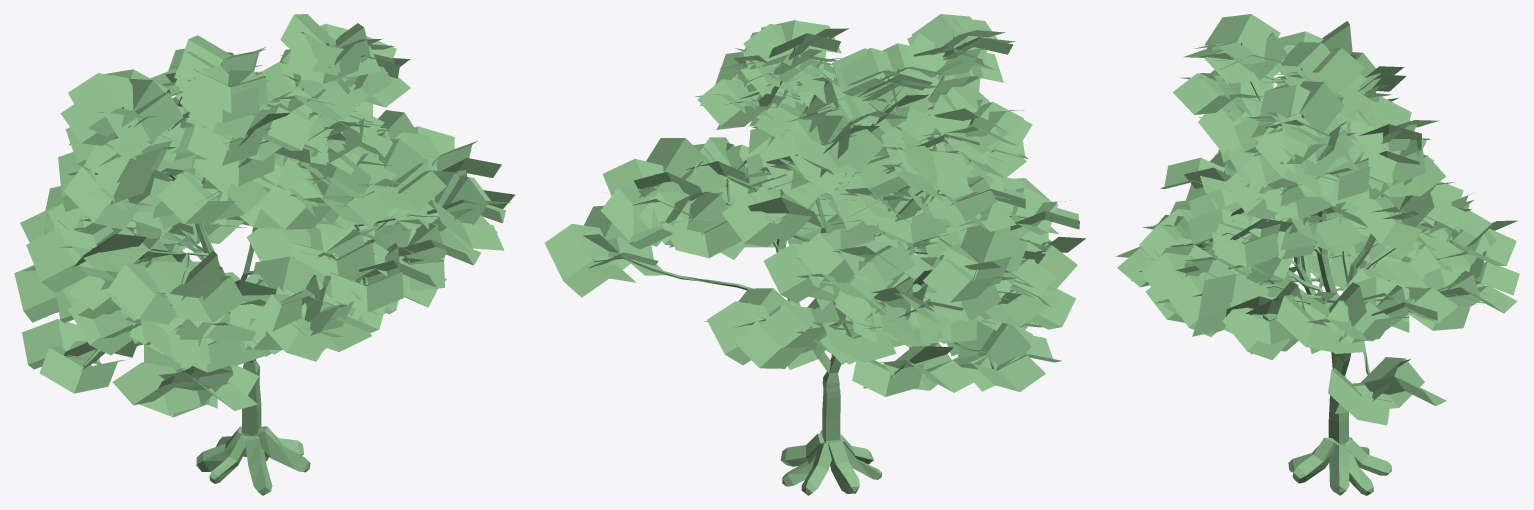
File: arvore_importada_1.glb
3 renders of one model, left to right at view 1: azimuth 30°, elevation 25°; view 2: azimuth 150°, elevation 25°; view 3: azimuth 270°, elevation 25°, orthographic. The views are drawn at different scales.
Visible parts, largest first — view 1: world; view 2: world; view 3: world.
Part boxes in pixels (left/top/right/bottom): world: left=14, top=14, right=515, bottom=495; world: left=544, top=14, right=1085, bottom=495; world: left=1115, top=14, right=1519, bottom=495.
Bounding box in the file's own units: 8.49 × 7.71 × 6.71.
